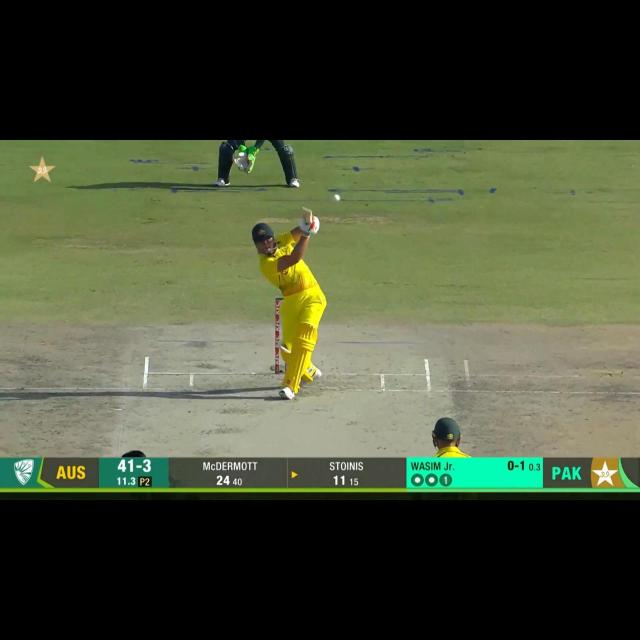bat: (299, 207, 314, 230)
toe: (300, 207, 312, 214)
